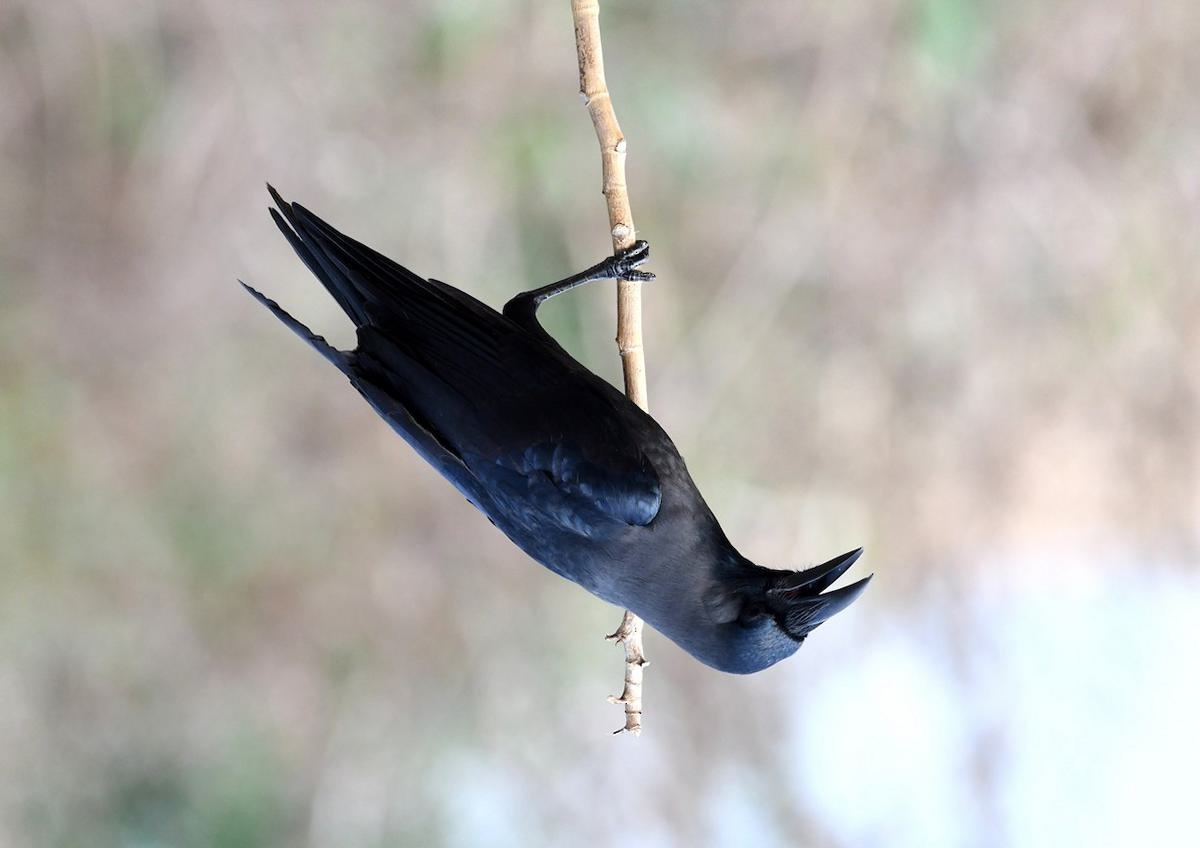crow: (239, 168, 877, 681)
